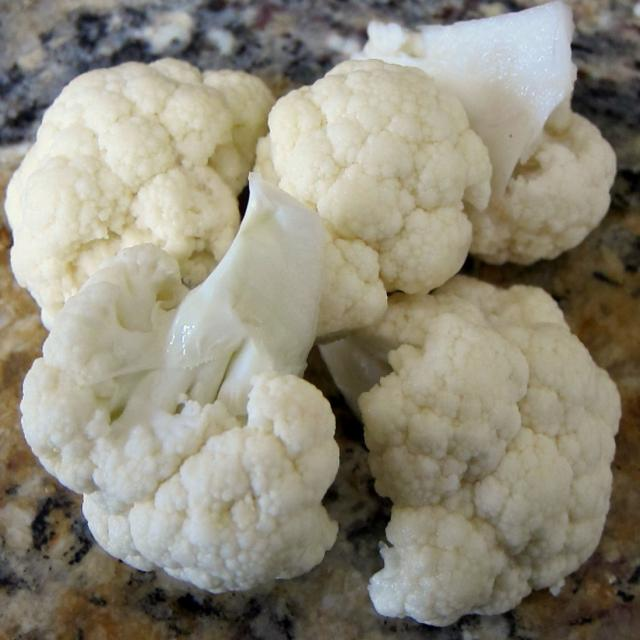Cauliflower: (0, 194, 366, 612), (265, 277, 640, 640), (220, 14, 611, 314), (0, 16, 308, 308)
